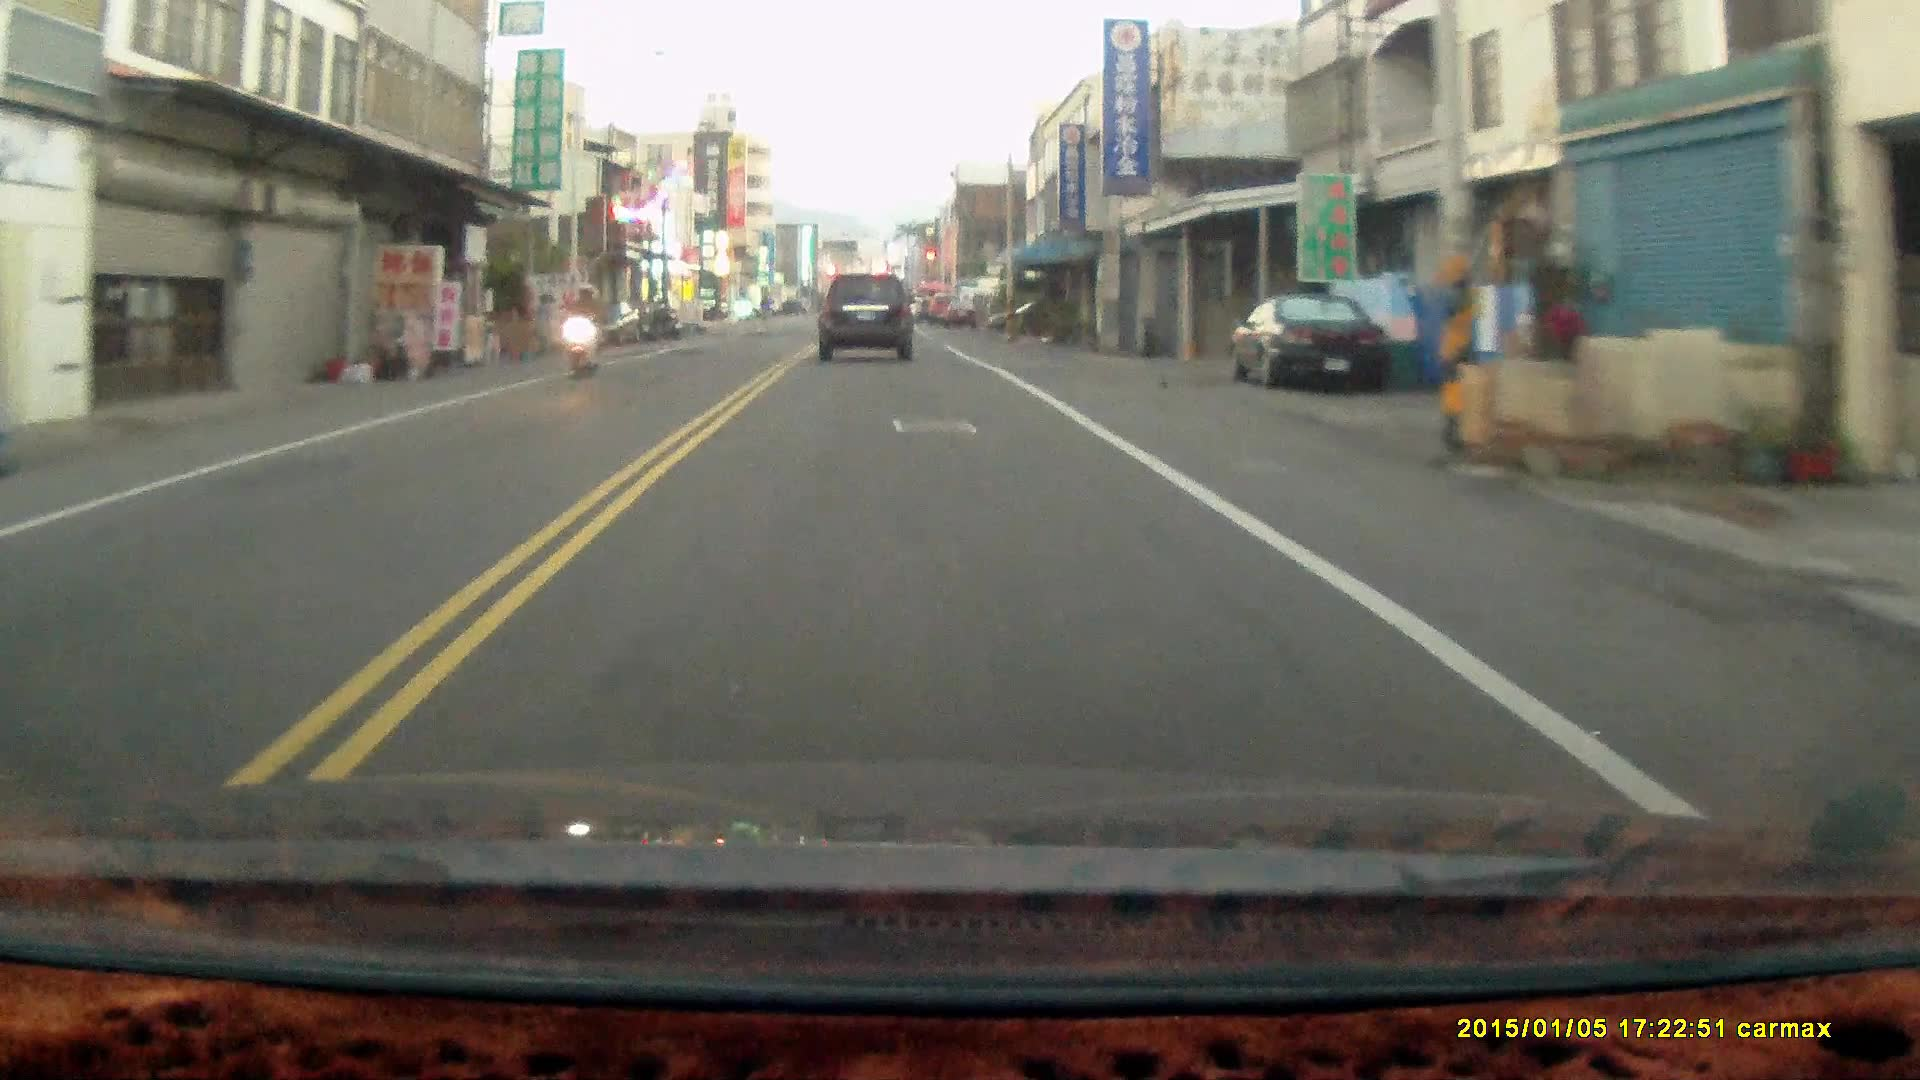rider: (559, 281, 606, 381)
vehicle: (1231, 291, 1396, 394), (818, 273, 916, 361)
